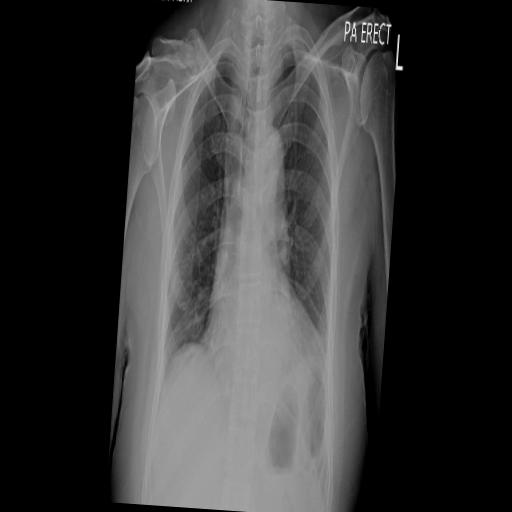kardiomegali: (138, 17, 352, 404)
